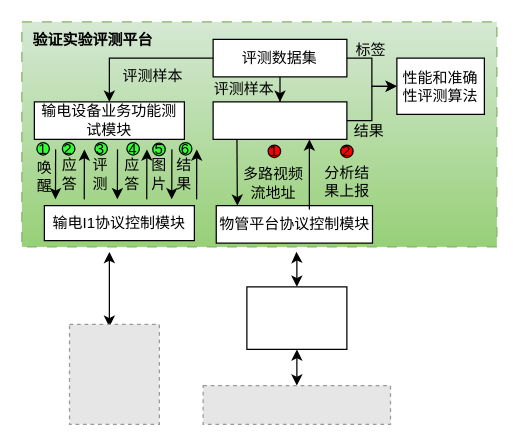
The diagram is 519 pixels wide and 446 high, and some of its shapes have lost their labels. Grey dashed boxes stand in for pictures. The shapes that lost their labels are listed below. From the top down, each one's box as (x1, y1, x2, y2) in pixels, then its label:
(212, 101, 347, 139): 配电设备业务功能测试模块
(246, 286, 347, 349): 物联管理平台
